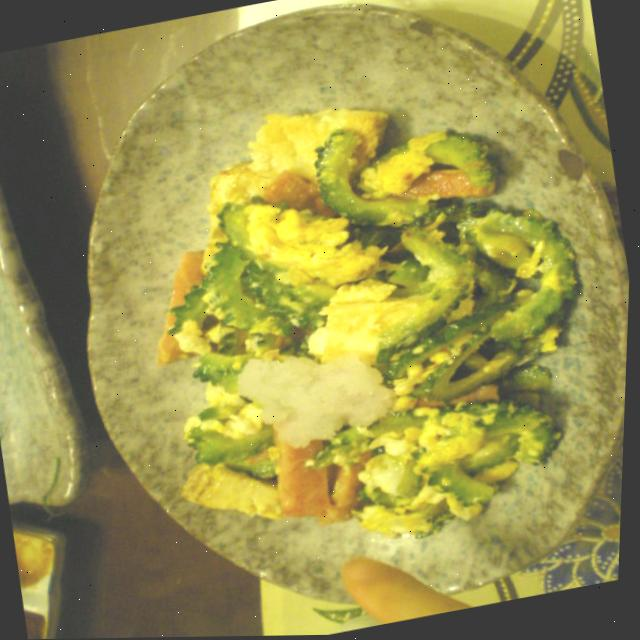熟制海鲜: (31, 0, 640, 639)
